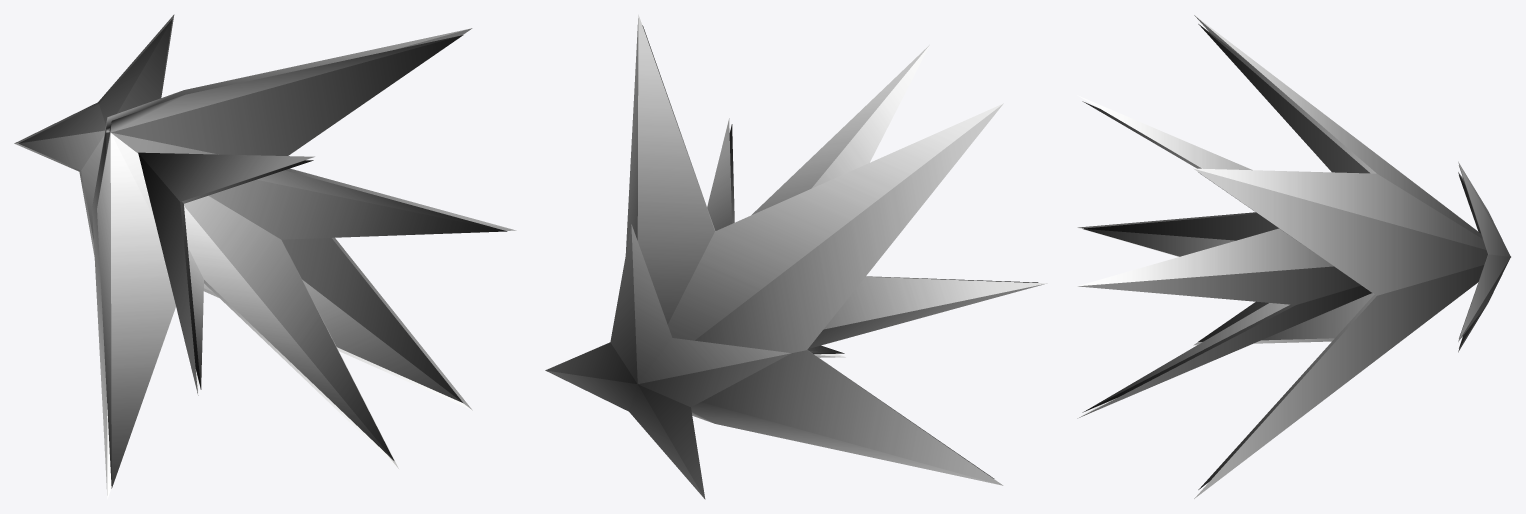
The model's file is MuzzleFlare.glb.
3 views of the same model, side by side, from view 1: azimuth 30°, elevation 25°; view 2: azimuth 150°, elevation 25°; view 3: azimuth 270°, elevation 25° (orthographic). The views are drawn at different scales.
Parts seen in each view (by area): view 1: MuzzleFlare; view 2: MuzzleFlare; view 3: MuzzleFlare.
Part boxes in pixels (box(x1,y1,x2,y2)): MuzzleFlare: box(14, 14, 516, 499); MuzzleFlare: box(545, 14, 1047, 499); MuzzleFlare: box(1077, 15, 1510, 498).
Bounding box in the file's own units: 3.98 × 3.98 × 4.73.
Materials: 1 (1 with a texture image).
